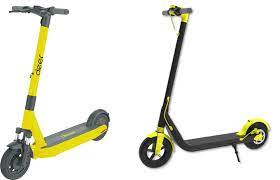kick_board: (140, 5, 268, 168), (1, 5, 110, 180), (1, 140, 30, 180), (140, 132, 173, 167), (243, 118, 270, 149), (86, 109, 108, 140)
kick_body: (186, 135, 239, 149)
kick_handler: (9, 5, 69, 25), (161, 6, 192, 22)
kick_neck: (20, 27, 48, 130), (161, 26, 183, 124)
